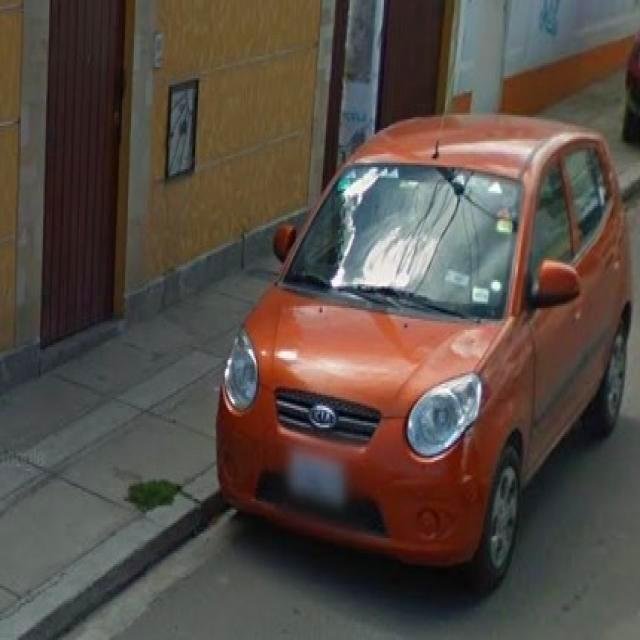Car: (211, 105, 637, 601)
